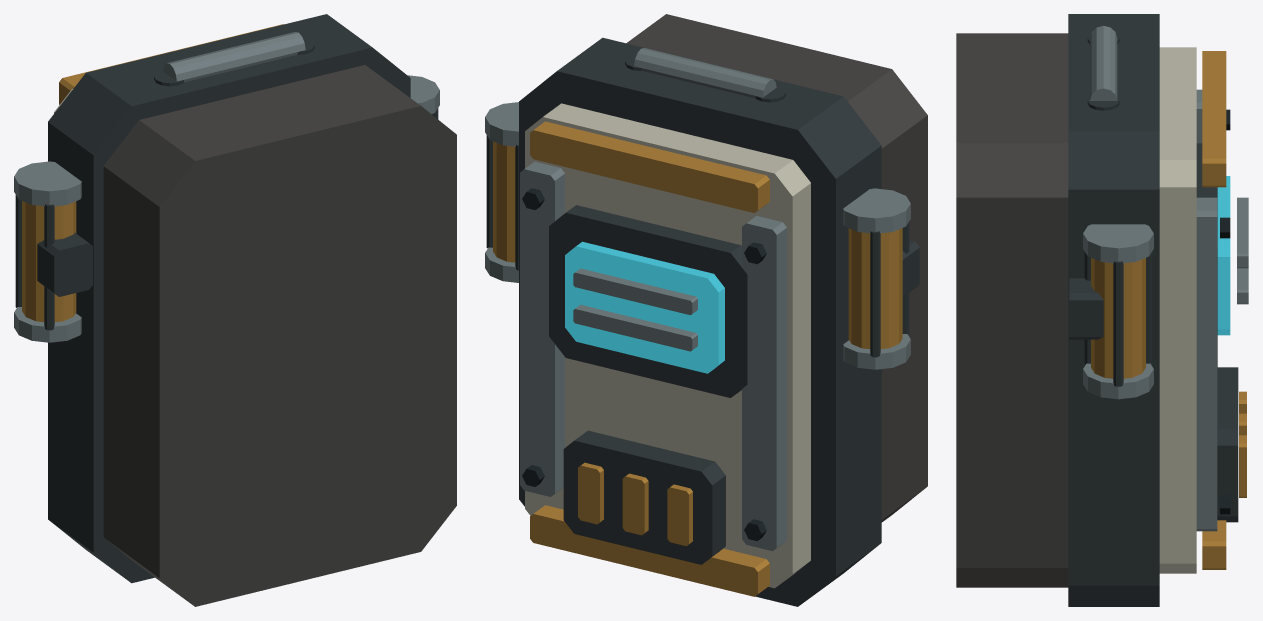
File: backpack_utility.glb
3 renders of one model, left to right at view 1: azimuth 30°, elevation 25°; view 2: azimuth 150°, elevation 25°; view 3: azimuth 270°, elevation 25°, orthographic.
Parts seen in each view (by area): view 1: backpack_utility; view 2: backpack_utility; view 3: backpack_utility.
Boxes of the visible parts, x1,y1,x2,y2 form: backpack_utility: (14, 14, 456, 606); backpack_utility: (485, 14, 927, 606); backpack_utility: (956, 14, 1248, 606).
Size of the model in its own units: 0.4219 by 0.475 by 0.256.
